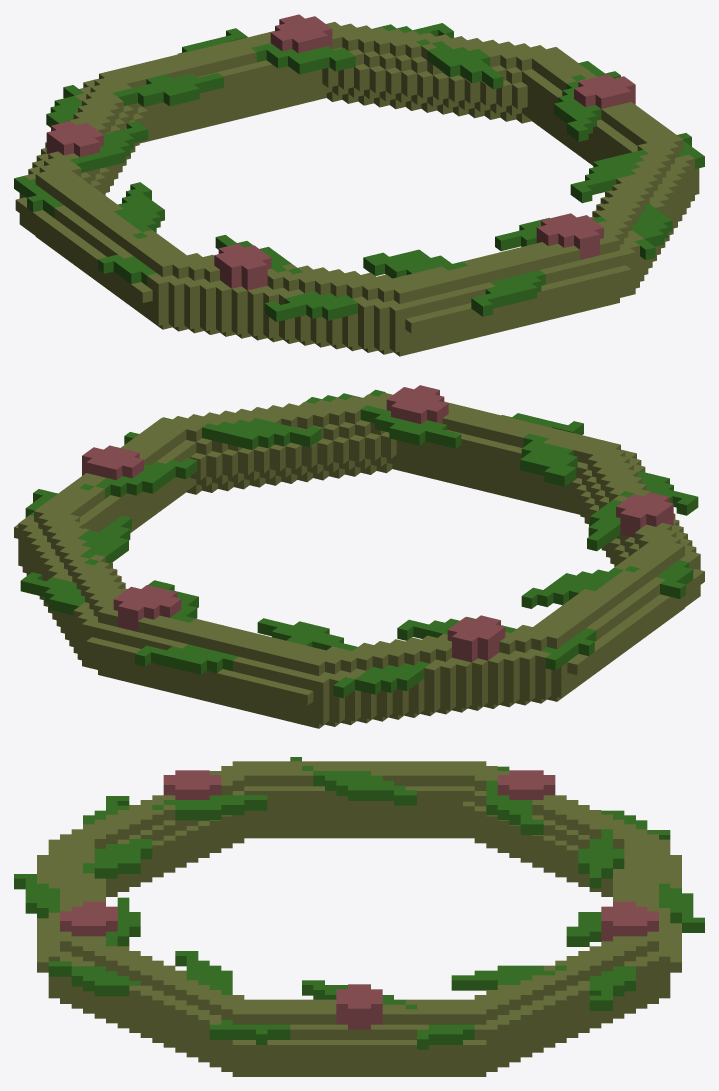
File: chaplet.glb
3 views of the same model, one above another, from view 1: azimuth 30°, elevation 25°; view 2: azimuth 150°, elevation 25°; view 3: azimuth 270°, elevation 25° (orthographic).
Visible parts, largest first — view 1: chaplet:compound; view 2: chaplet:compound; view 3: chaplet:compound.
Part boxes in pixels (x1,y1,x2,y2): chaplet:compound: (14,14,704,356); chaplet:compound: (14,385,704,728); chaplet:compound: (14,757,704,1076).
Bounding box in the file's own units: 0.232 × 0.028 × 0.24.
